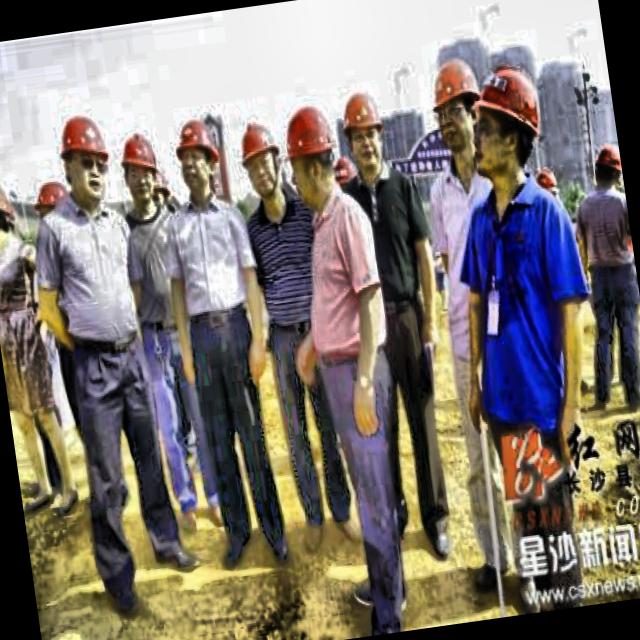helmet: (464, 56, 552, 192), (275, 95, 344, 211), (423, 50, 490, 166), (52, 106, 119, 214), (337, 84, 392, 184), (234, 114, 288, 210), (170, 110, 220, 203), (116, 127, 164, 212), (31, 172, 78, 236), (0, 168, 24, 255), (588, 142, 624, 200)
